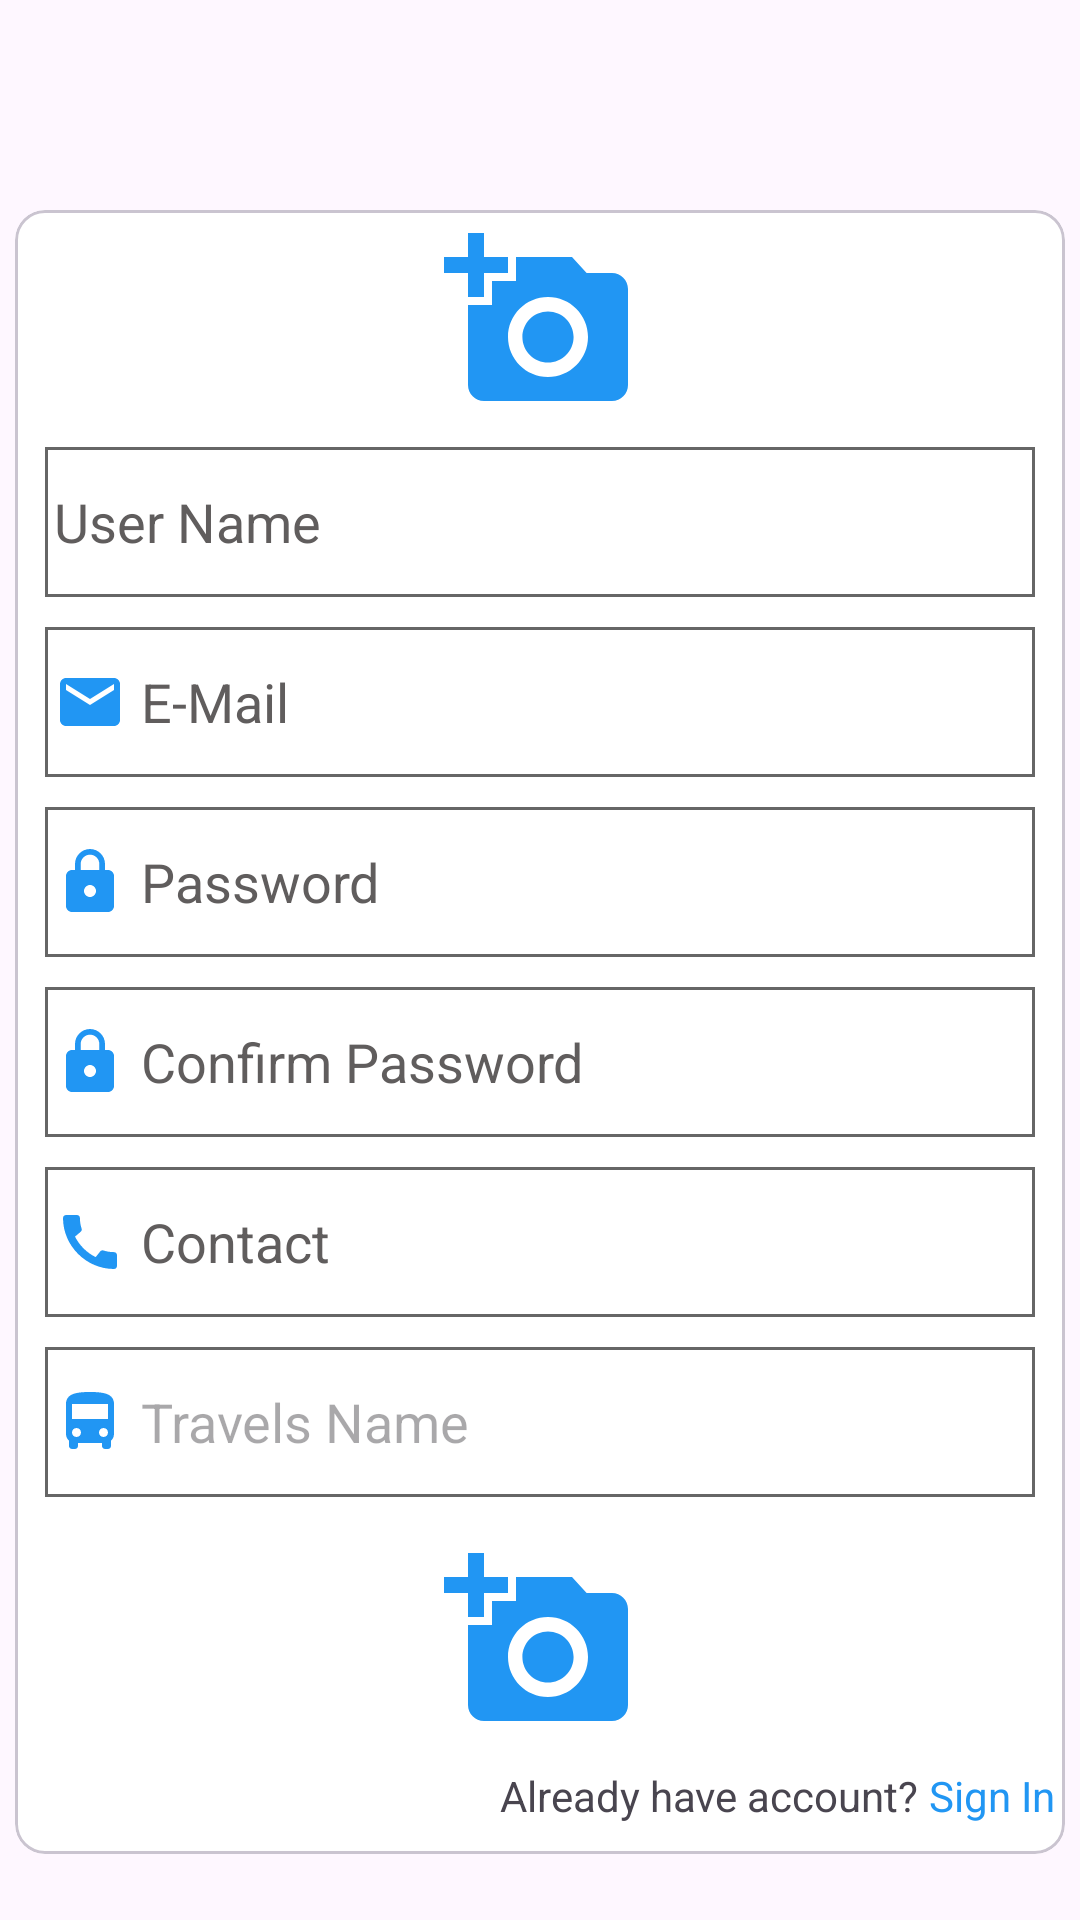

Screen size 1080 × 1920. Icon name, then its center in pixels as (x=x, y=y):
add photo: (x=536, y=317), (x=536, y=1637)
